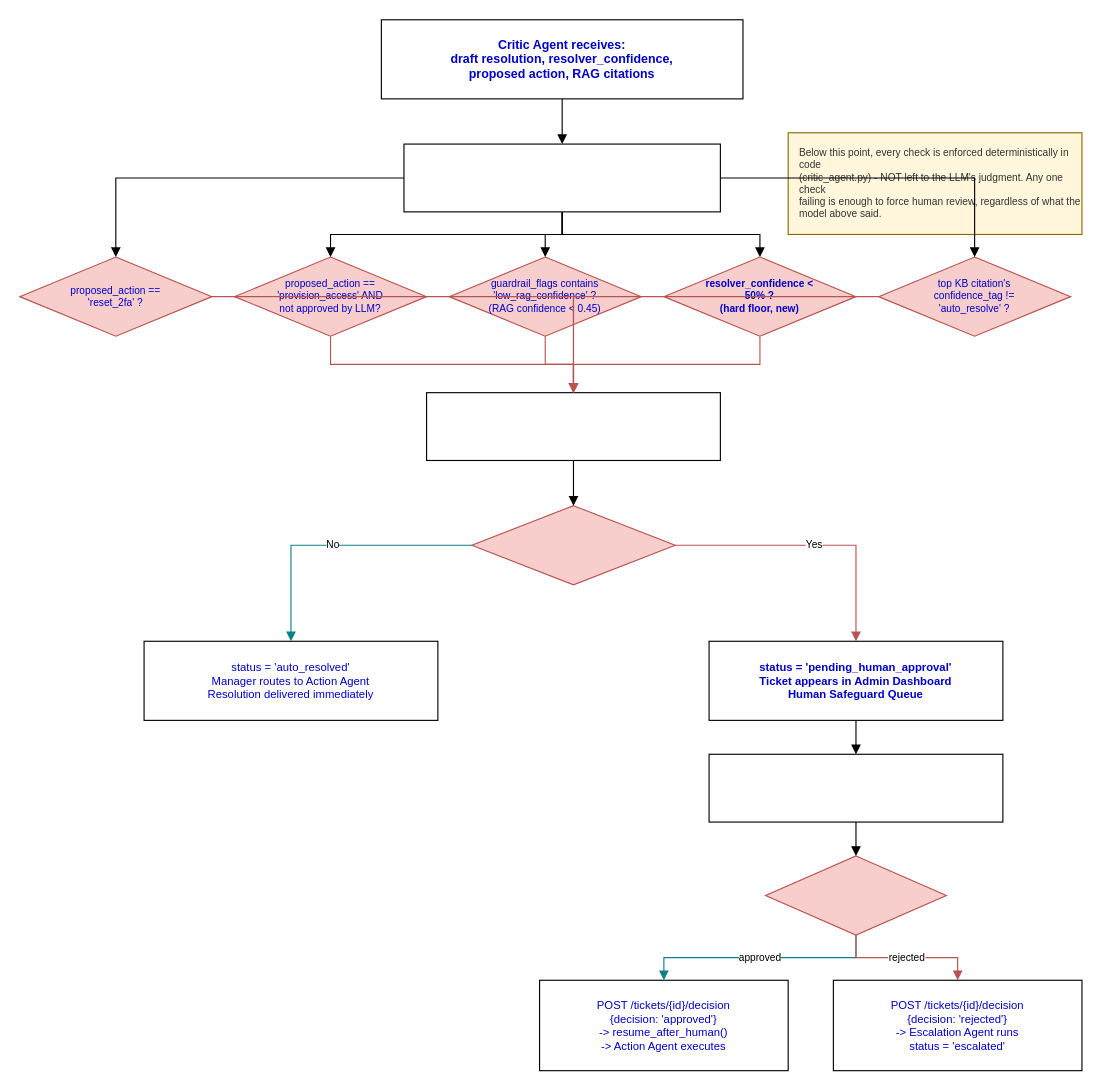
This 1102x1090 diagram has some shape labels left out. The centre of each missing label's shape, as x and y in pixels:
decision?: (855,895)
Flagship model reviews: approved? reason? requires_human?: (561,177)
Human reviewer clicks Approve or Reject & Escalate: (855,787)
requires_human = true if ANY check above fired: (572,426)
requires_human?: (573,545)
